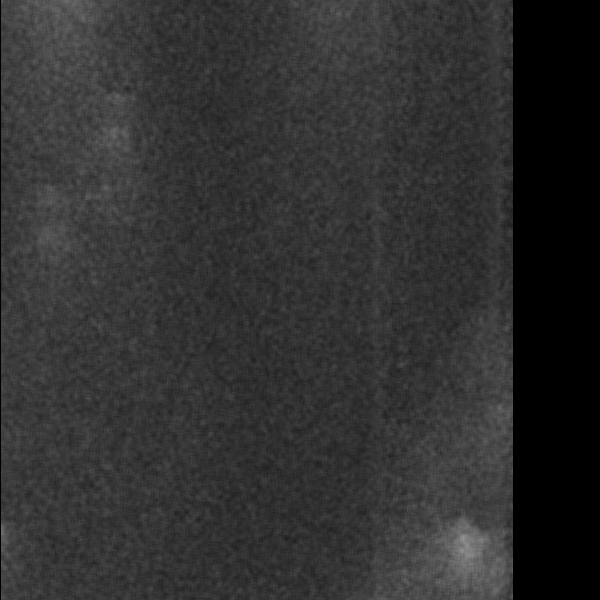spark: (6, 249, 94, 290), (21, 459, 86, 490), (34, 574, 105, 600), (3, 292, 41, 321)
